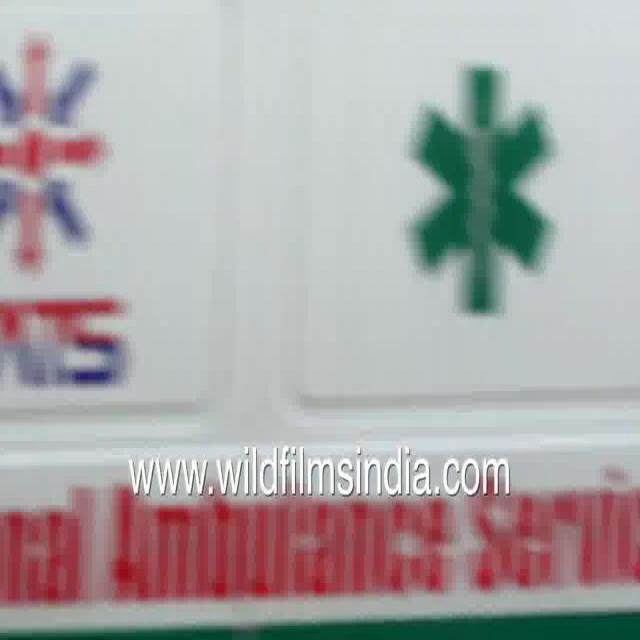ambulance: (0, 25, 640, 616)
